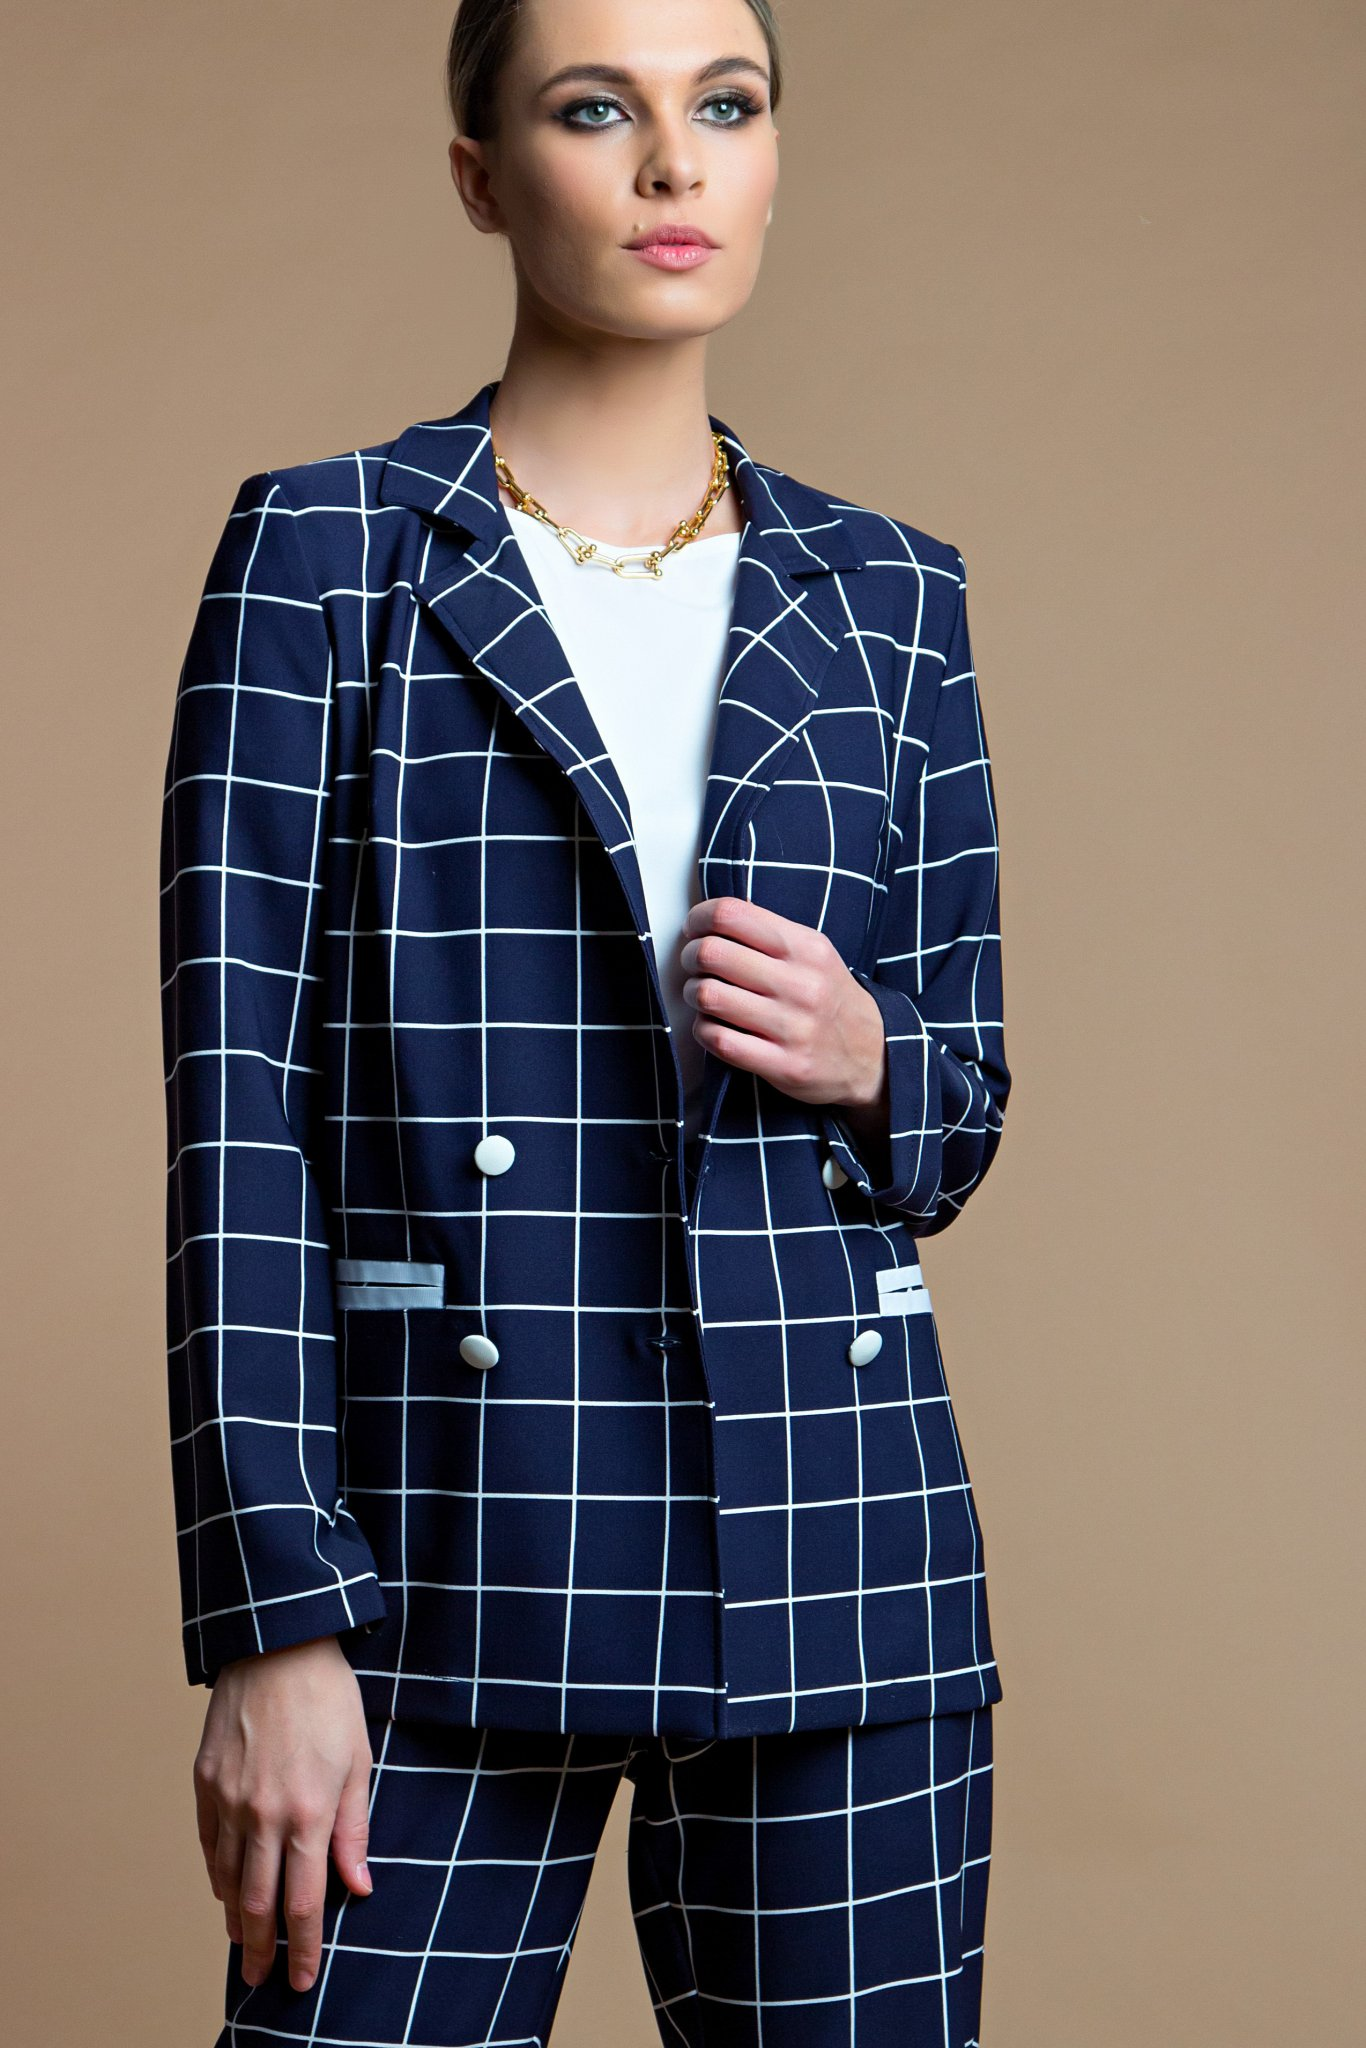squared: (156, 373, 1037, 2031)
